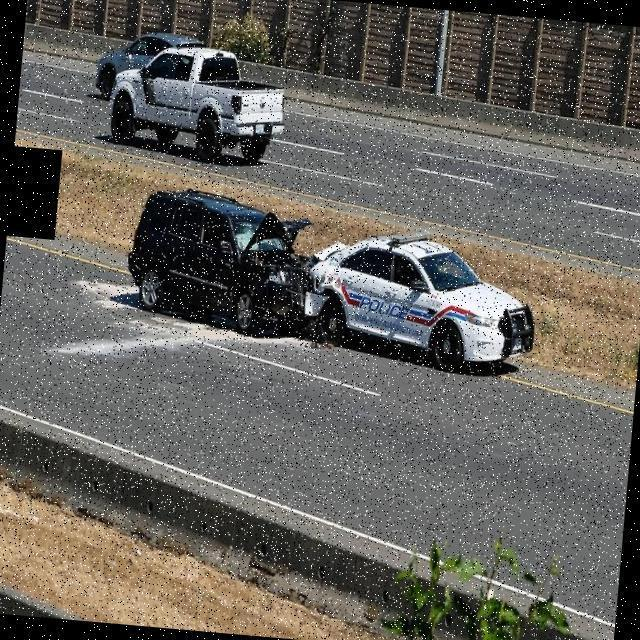accident: (118, 169, 546, 378)
